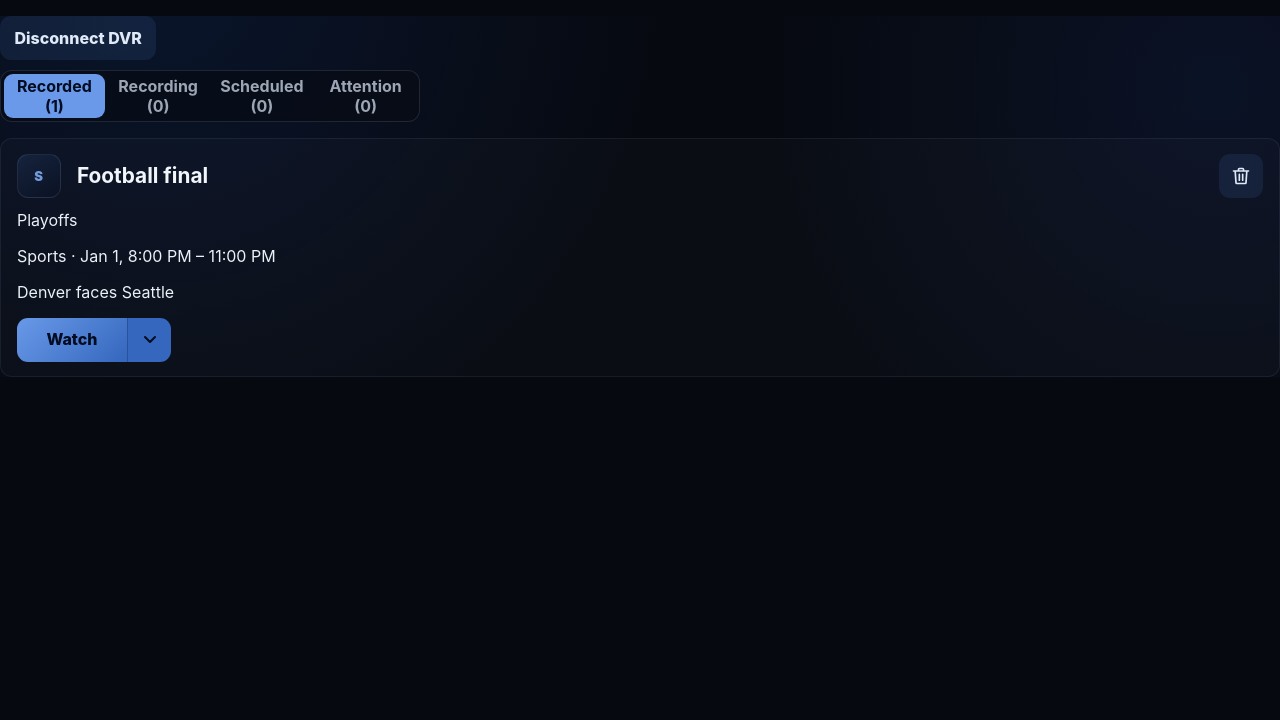
Test: DVR trash action › keeps the recording and restores trash focus after Keep unchanged
The width and height of the screenshot is (1280, 720).
What coordinates should you click on to do the following:
click the button named "Delete recording: Football final"
I would click on:
 (1241, 176)
Its box is [1219,154,1263,198].
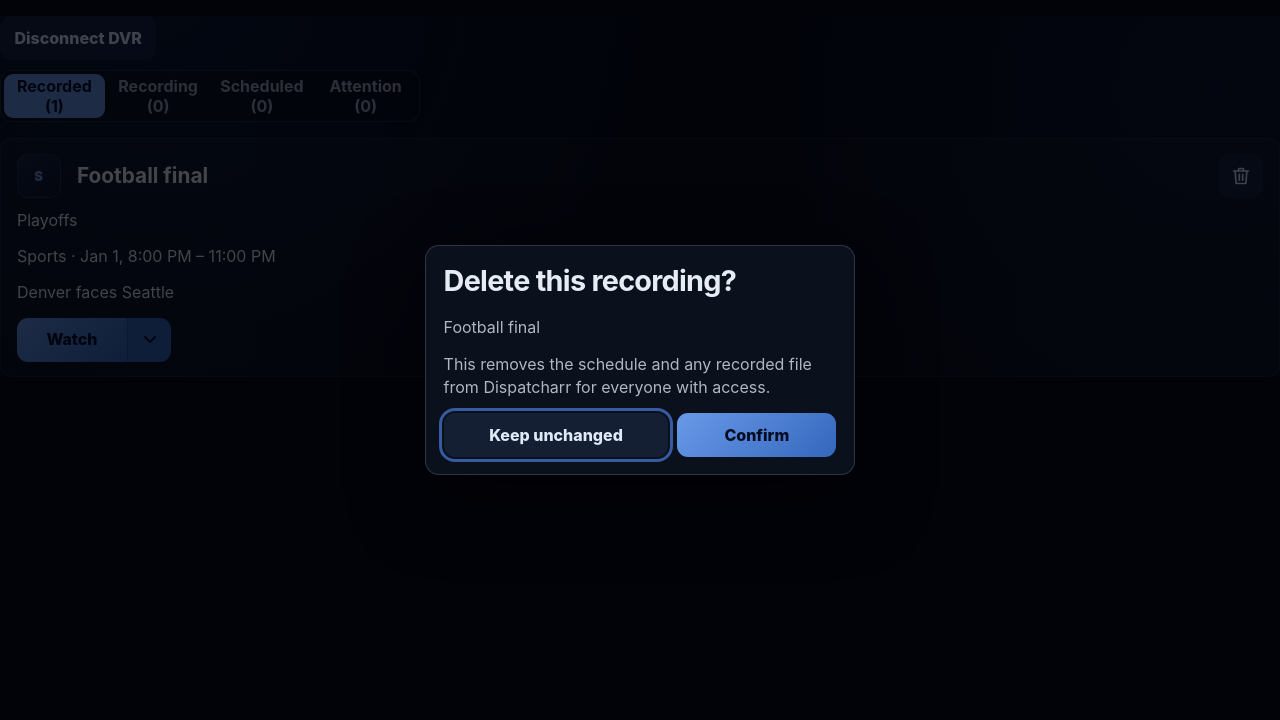
What coordinates should you click on to do the following:
click the button "Keep unchanged"
I would click on:
 (556, 435)
Its box is [444,413,668,457].
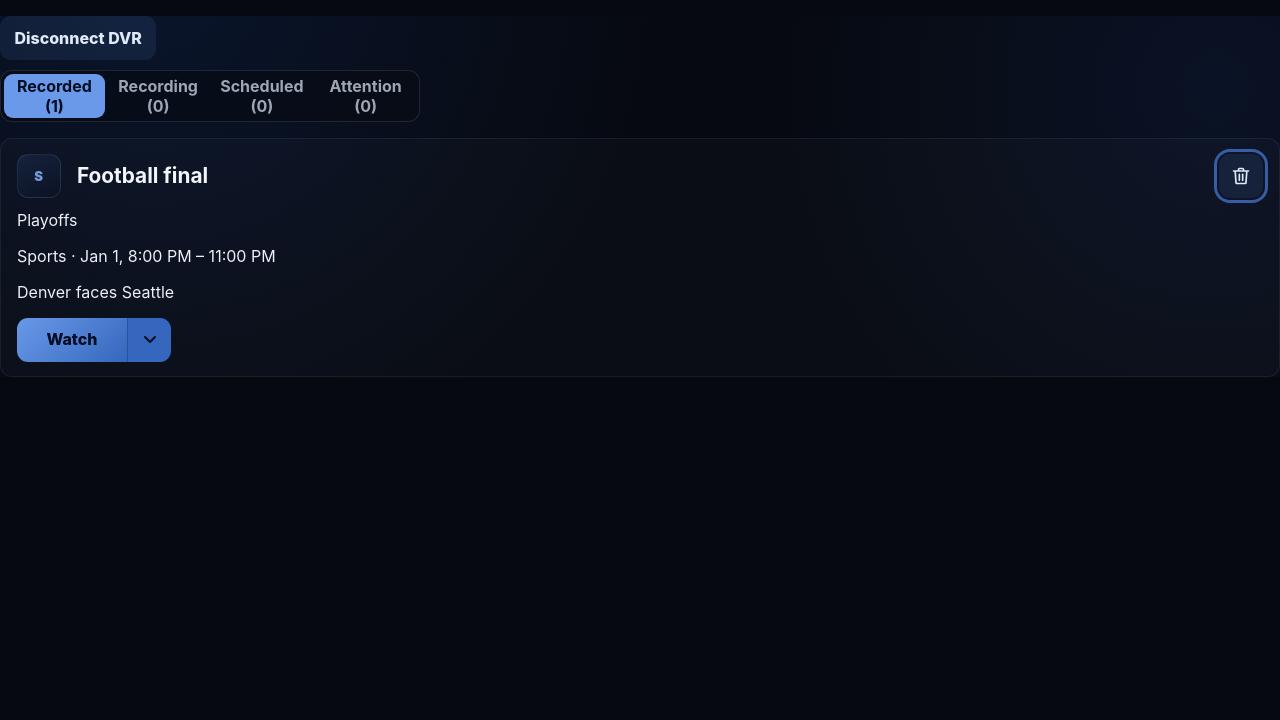
Expected: the dialog is gone
